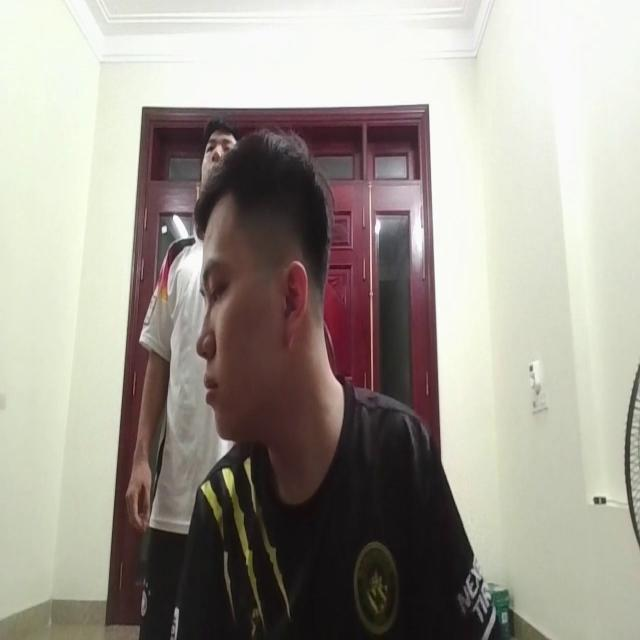extra_person: (154, 131, 244, 504)
student: (191, 130, 473, 640)
